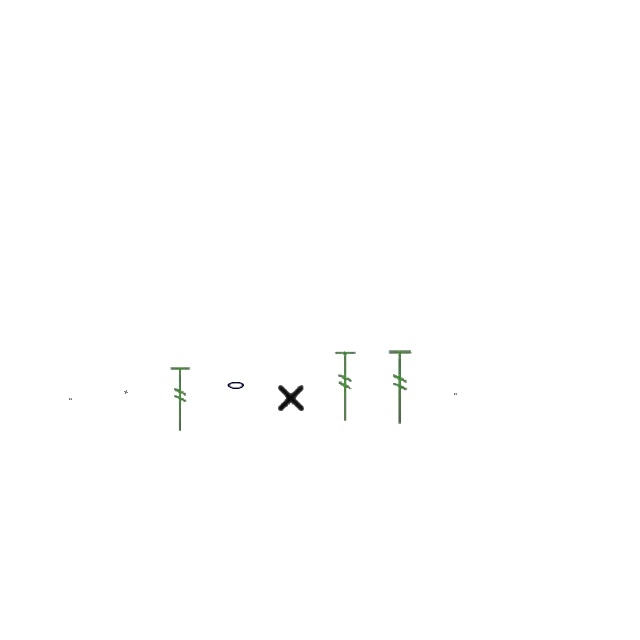chain: (226, 378, 246, 392), (454, 393, 458, 395), (70, 398, 72, 400)
double: (275, 380, 307, 414)
enseble_chain: (124, 390, 128, 394)
fan: (386, 348, 416, 426), (332, 348, 360, 426), (168, 365, 194, 433)
